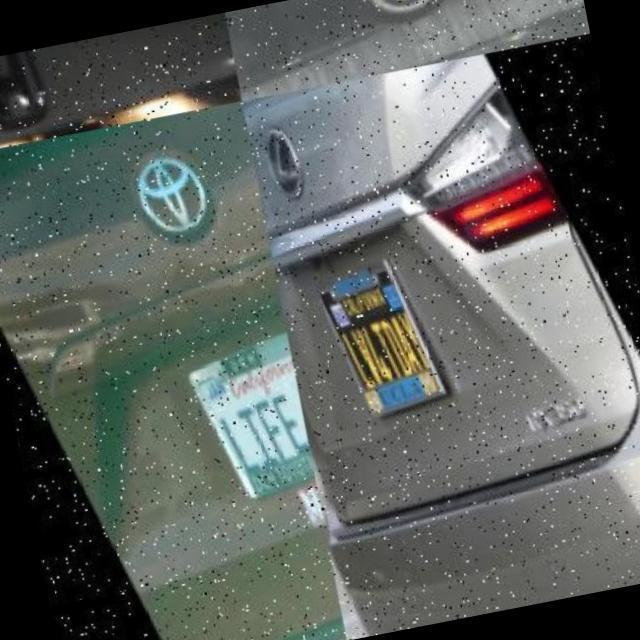license_plate: (172, 310, 320, 518), (307, 247, 451, 428), (0, 84, 212, 156)
